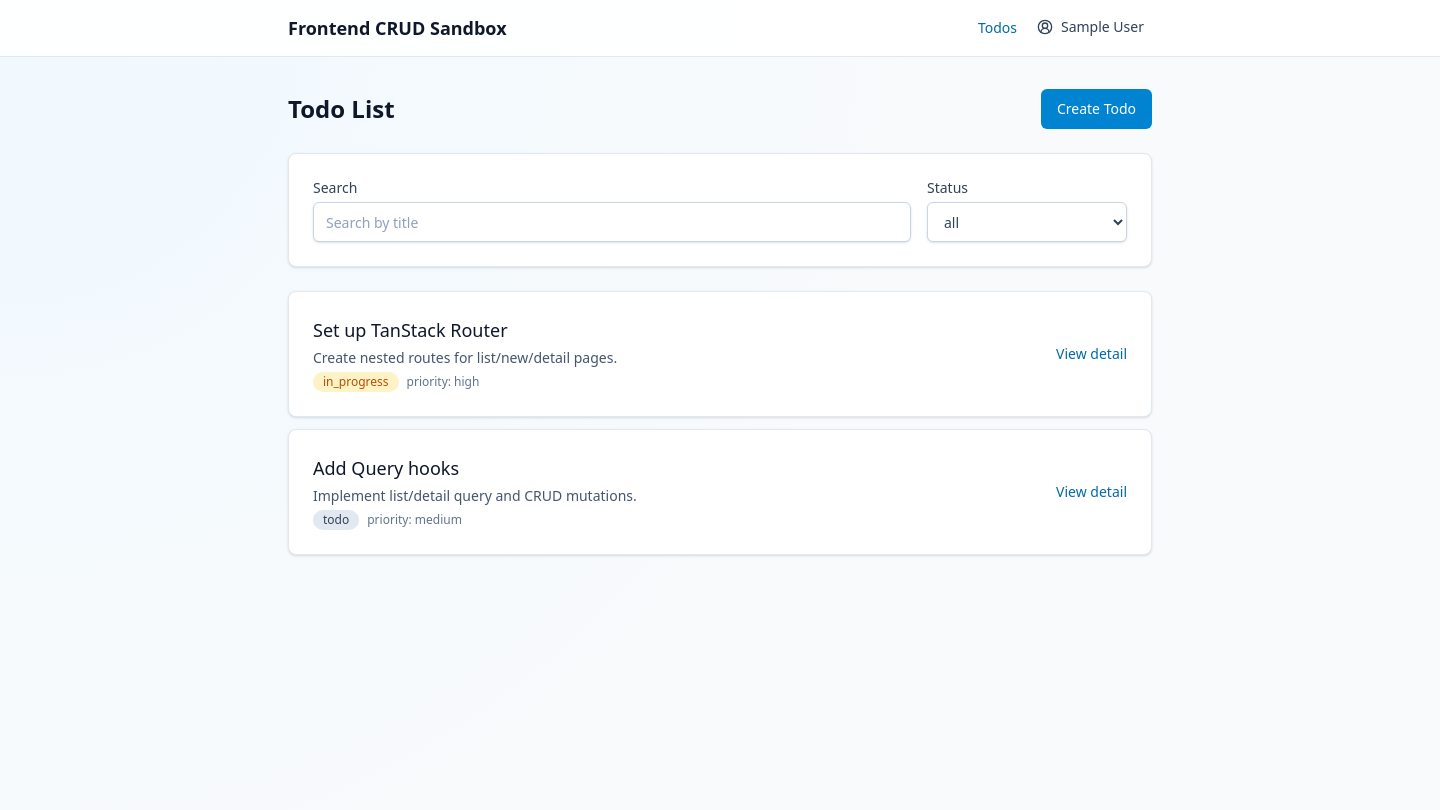
todo app integration › shows list and navigates to detail
expect the text "Set up TanStack Router" is shown: met, box [313,318,508,342]
Click the 1st link "View detail".
click(1092, 354)  # box [1056,344,1127,364]
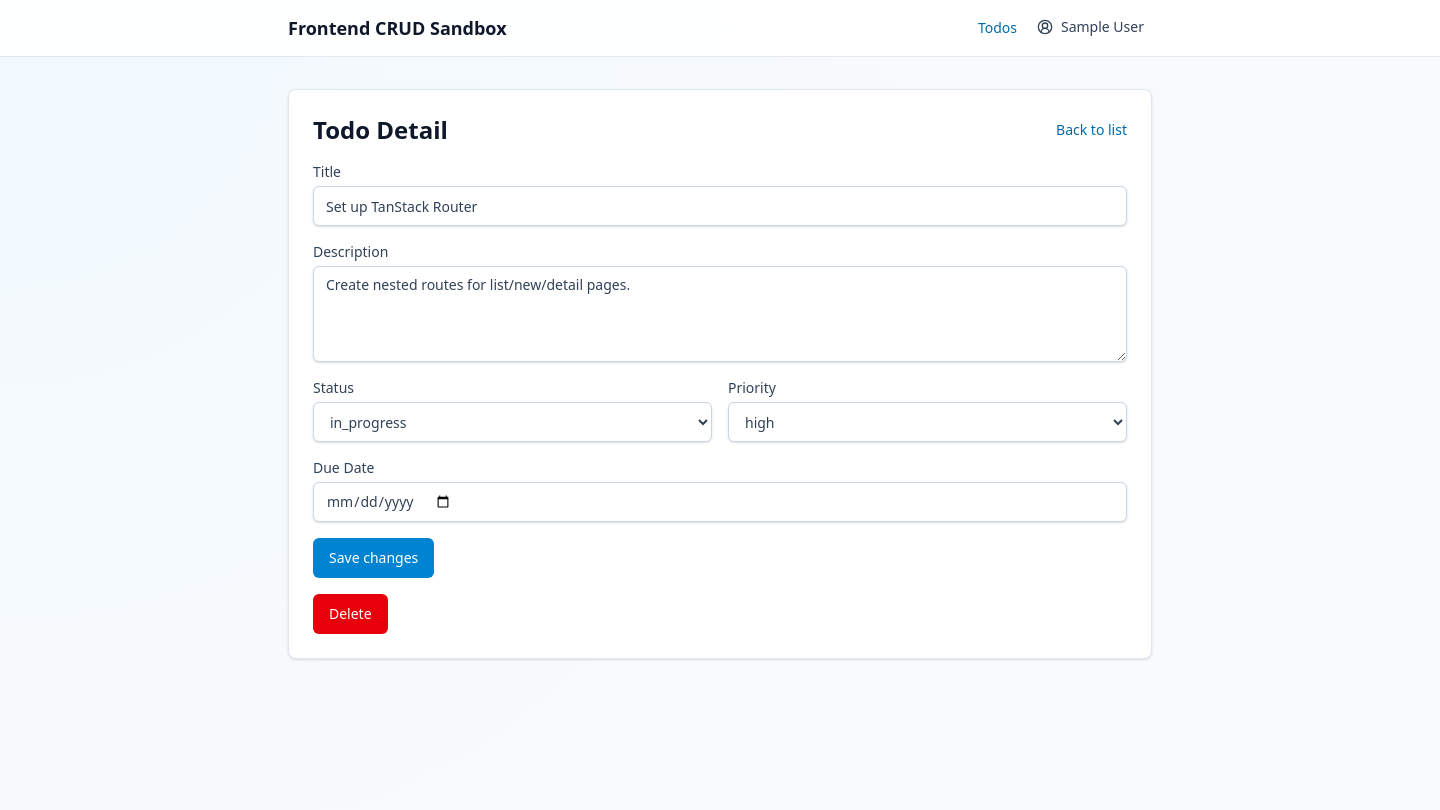
expect the heading "Todo Detail" is shown: met, box [313,114,448,146]
